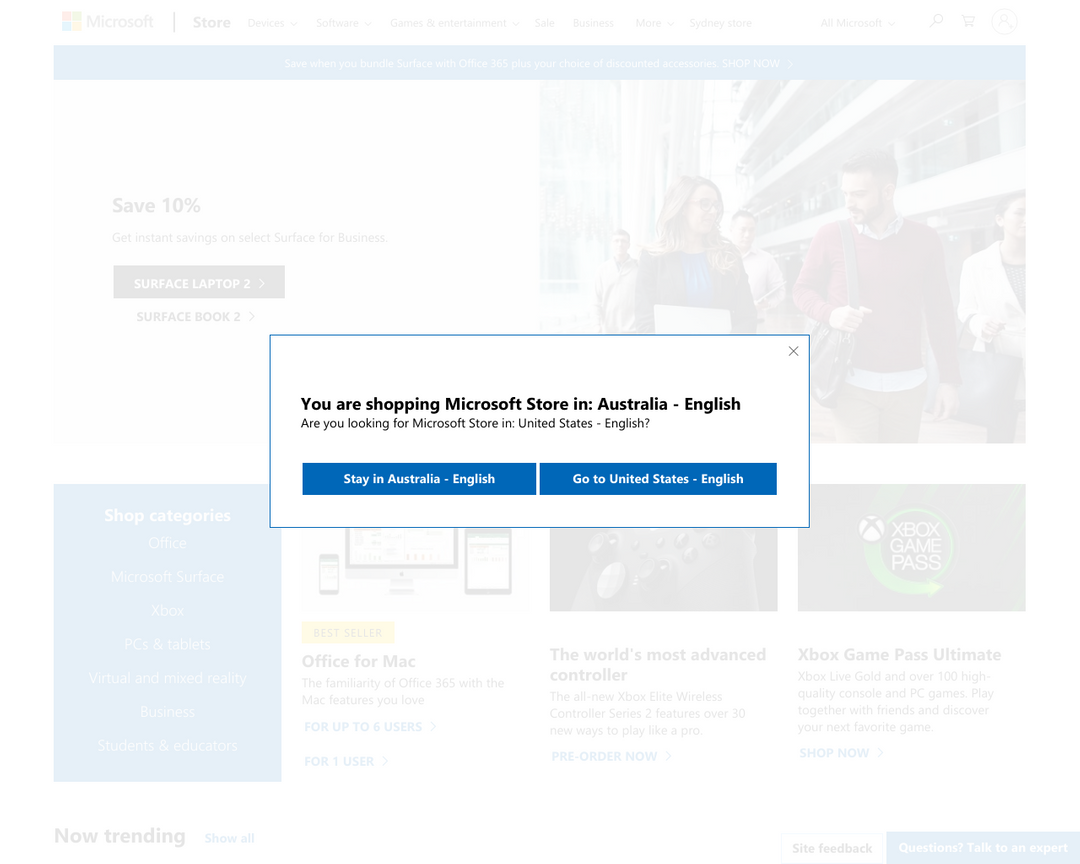Microsoft: (58, 6, 157, 35)
